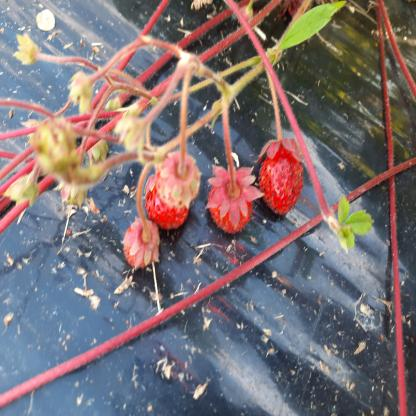ripe: (258, 146, 308, 214), (147, 166, 187, 228), (210, 171, 248, 232), (126, 224, 158, 268)
